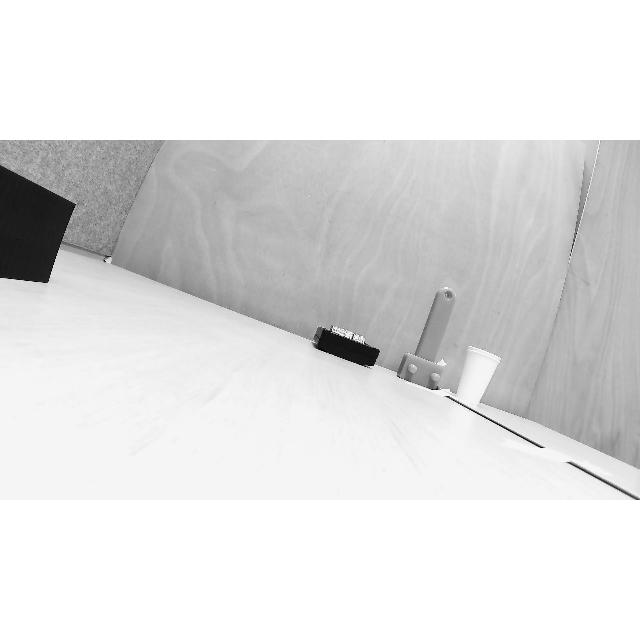targets: (393, 286, 459, 394), (313, 321, 379, 372), (452, 345, 504, 407)
